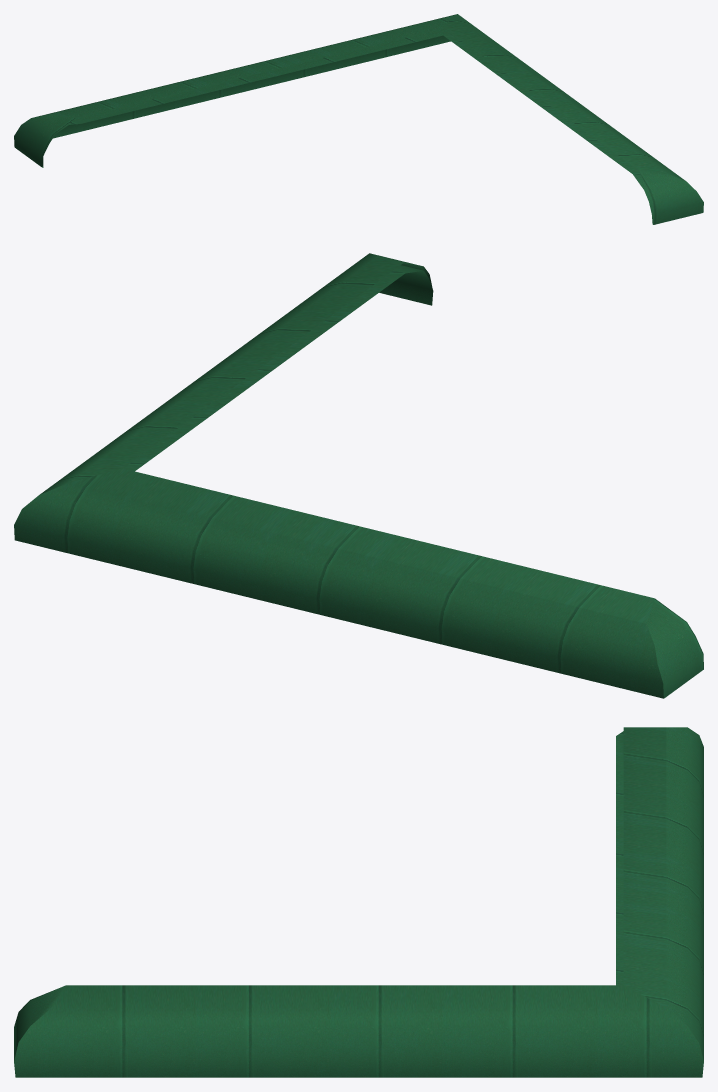
3 renders of one model, top to bottom at view 1: azimuth 30°, elevation 25°; view 2: azimuth 150°, elevation 25°; view 3: azimuth 270°, elevation 25°, orthographic. The views are drawn at different scales.
Parts seen in each view (by area): view 1: Awn (3); view 2: Awn (3); view 3: Awn (3).
Part boxes in pixels (x1,y1,x2,y2): Awn (3): (14, 14, 703, 224); Awn (3): (14, 253, 703, 698); Awn (3): (14, 727, 703, 1077).
Size of the model in its own units: 2550 by 223 by 2361.
